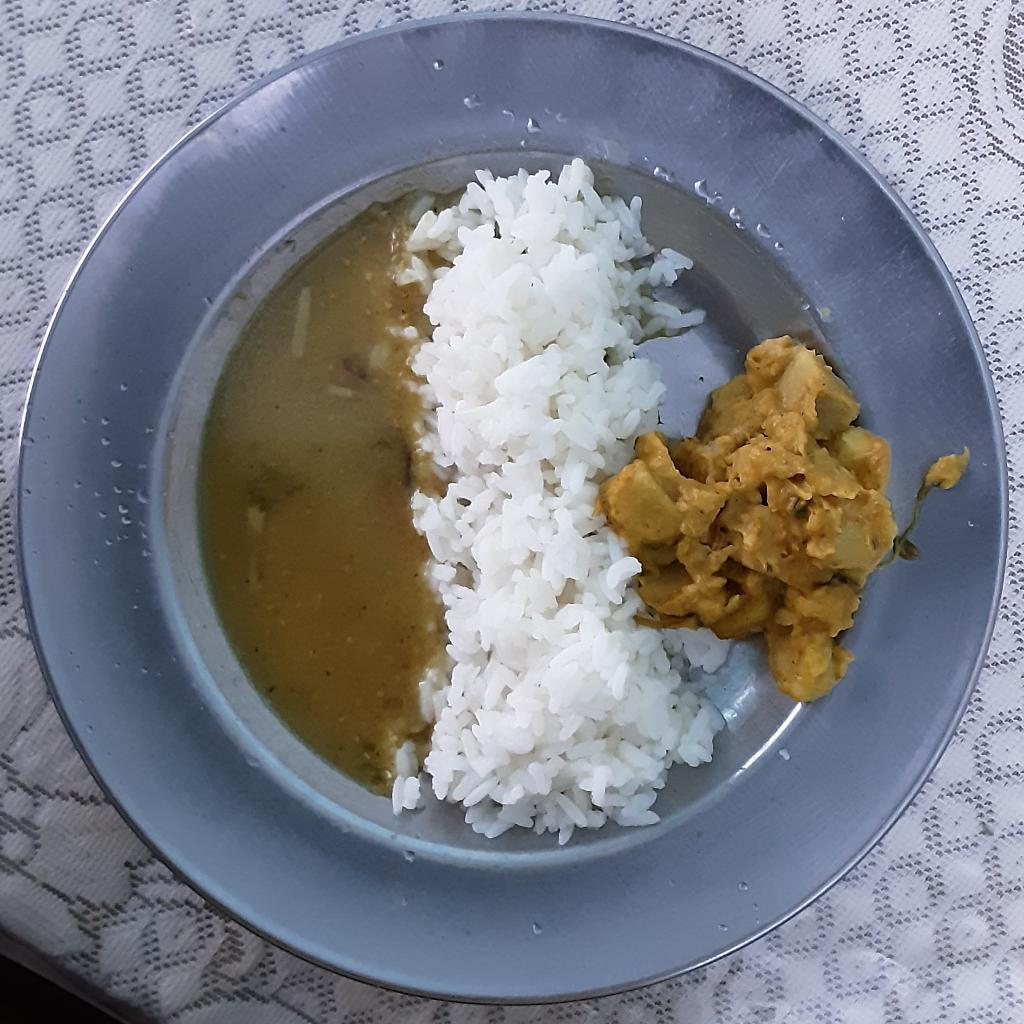daal: (195, 184, 452, 790)
lau: (597, 335, 980, 708)
rice: (387, 155, 735, 850)
